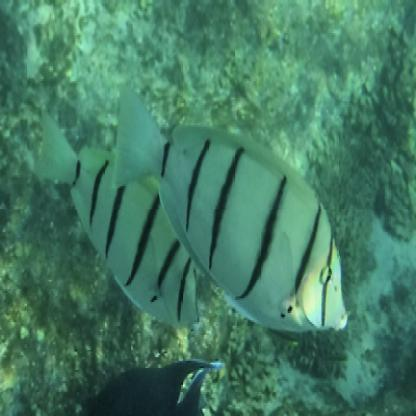Bio: (114, 74, 348, 340), (37, 105, 205, 333)
